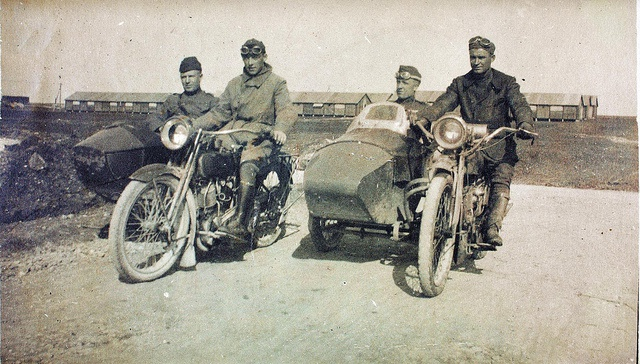non-vehicle: (110, 113, 271, 280), (402, 115, 542, 296)
